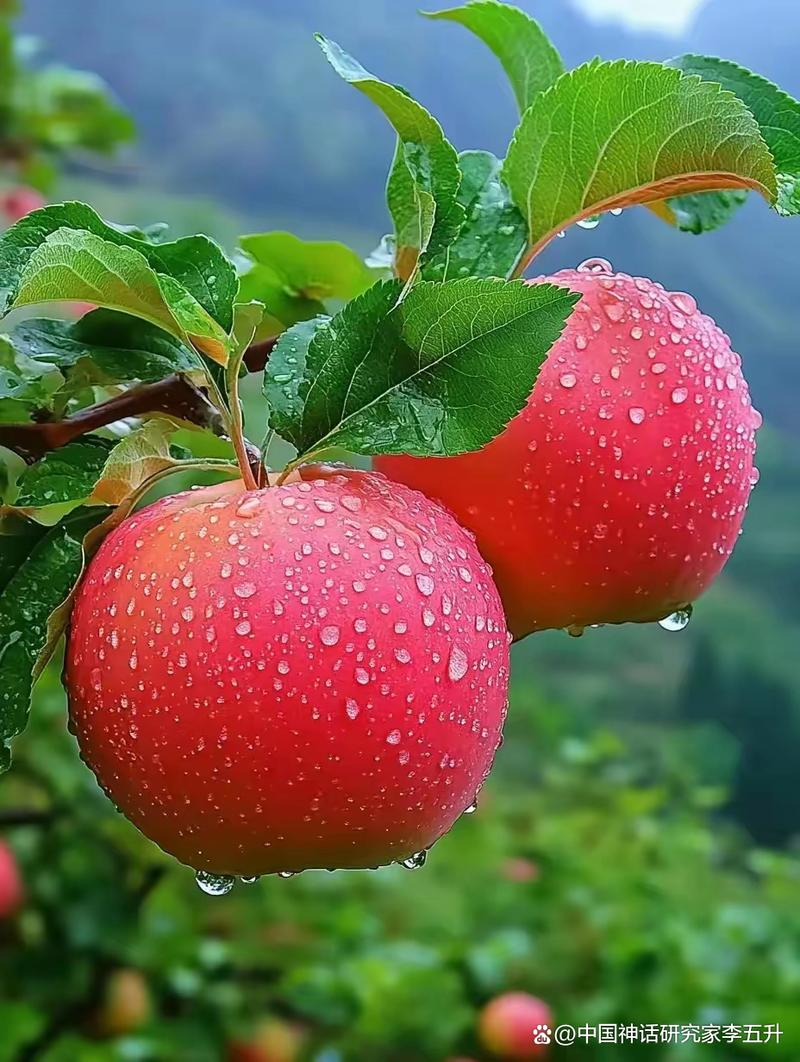ripe: (46, 466, 512, 897), (331, 268, 761, 647)
